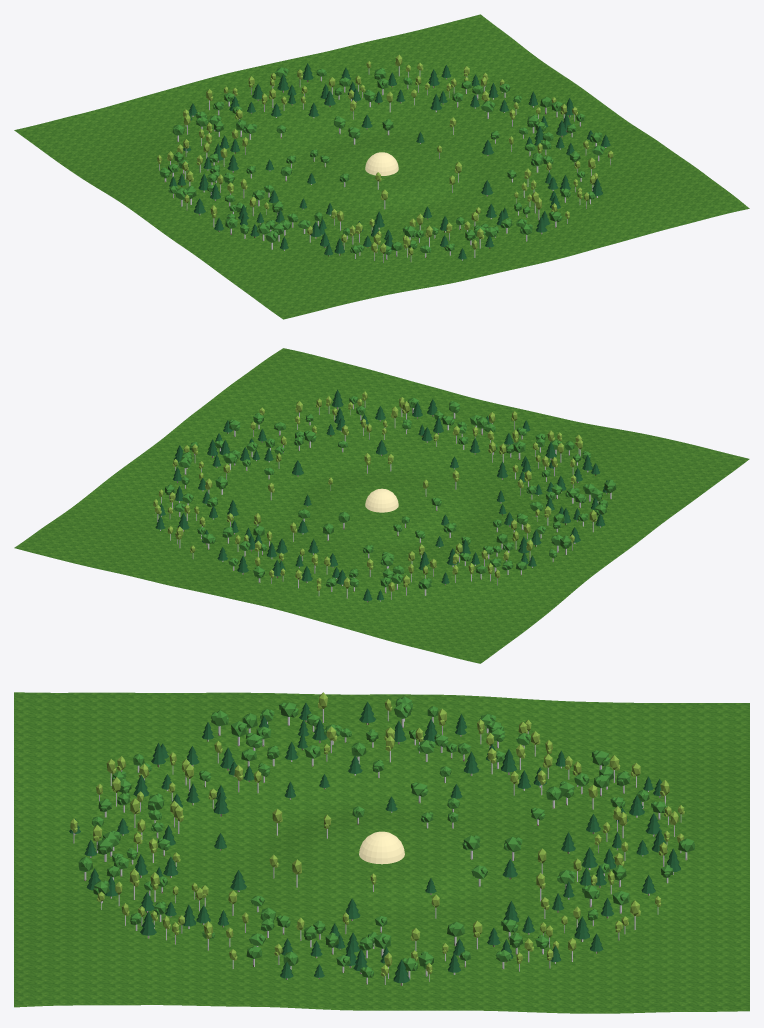
Rendered from green_field.glb.
The picture shows the model from 3 angles, top to bottom: view 1: azimuth 30°, elevation 25°; view 2: azimuth 150°, elevation 25°; view 3: azimuth 270°, elevation 25°; orthographic projection. The views are drawn at different scales.
Parts seen in each view (by area): view 1: Ground-col, Sun; view 2: Ground-col, Sun; view 3: Ground-col, Sun.
Boxes of the visible parts, x1,y1,x2,y2 form: Ground-col: (14,14,749,319); Sun: (365,152,398,175); Ground-col: (14,348,749,663); Sun: (365,488,398,512); Ground-col: (14,692,749,1013); Sun: (359,831,404,864).
Bounding box in the file's own units: 160 × 13.59 × 160.
8 materials, 1 textured.
